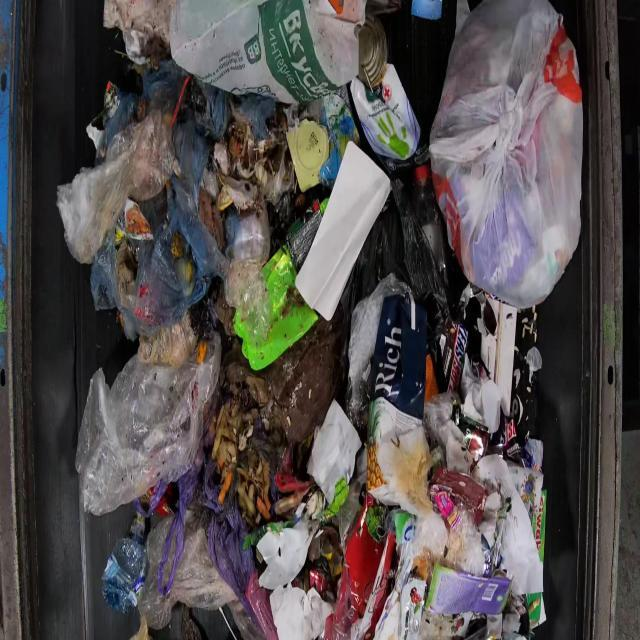other-trash: (56, 0, 579, 638)
